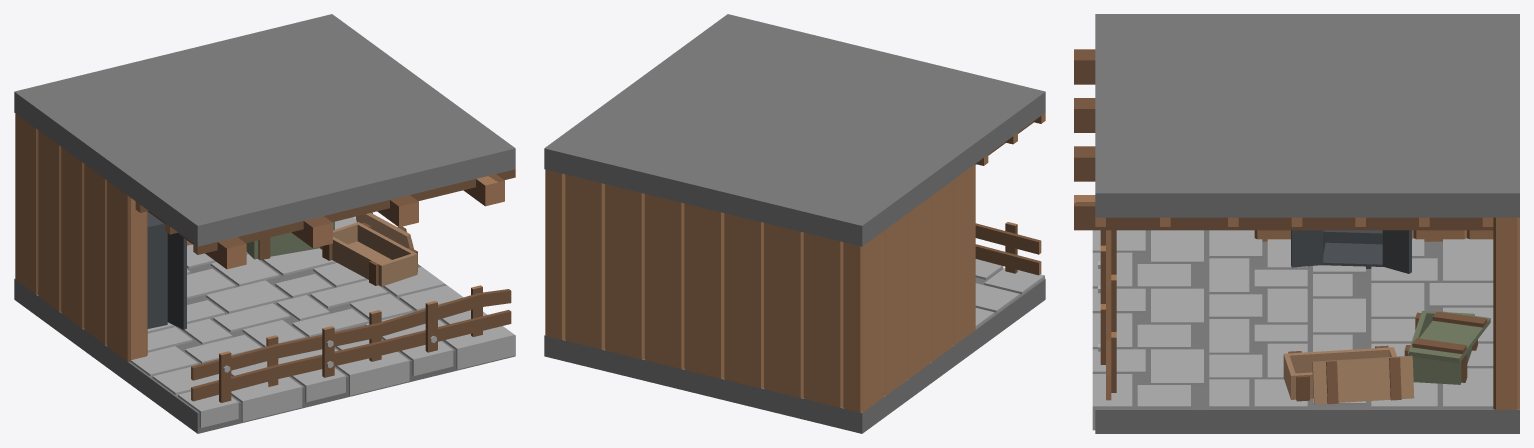
The model's file is WeaponStorage_Level_01_StraightLeft.fbx.
The picture shows the model from 3 angles, left to right: view 1: azimuth 30°, elevation 25°; view 2: azimuth 150°, elevation 25°; view 3: azimuth 270°, elevation 25°; orthographic projection. The views are drawn at different scales.
Visible parts, largest first — view 1: WeaponStorage_Level_01_StraightLeft; view 2: WeaponStorage_Level_01_StraightLeft; view 3: WeaponStorage_Level_01_StraightLeft.
Part boxes in pixels (x1,y1,x2,y2): WeaponStorage_Level_01_StraightLeft: [14, 14, 515, 433]; WeaponStorage_Level_01_StraightLeft: [544, 14, 1045, 433]; WeaponStorage_Level_01_StraightLeft: [1074, 14, 1519, 433].
Bounding box in the file's own units: 8 × 5 × 8.4.
